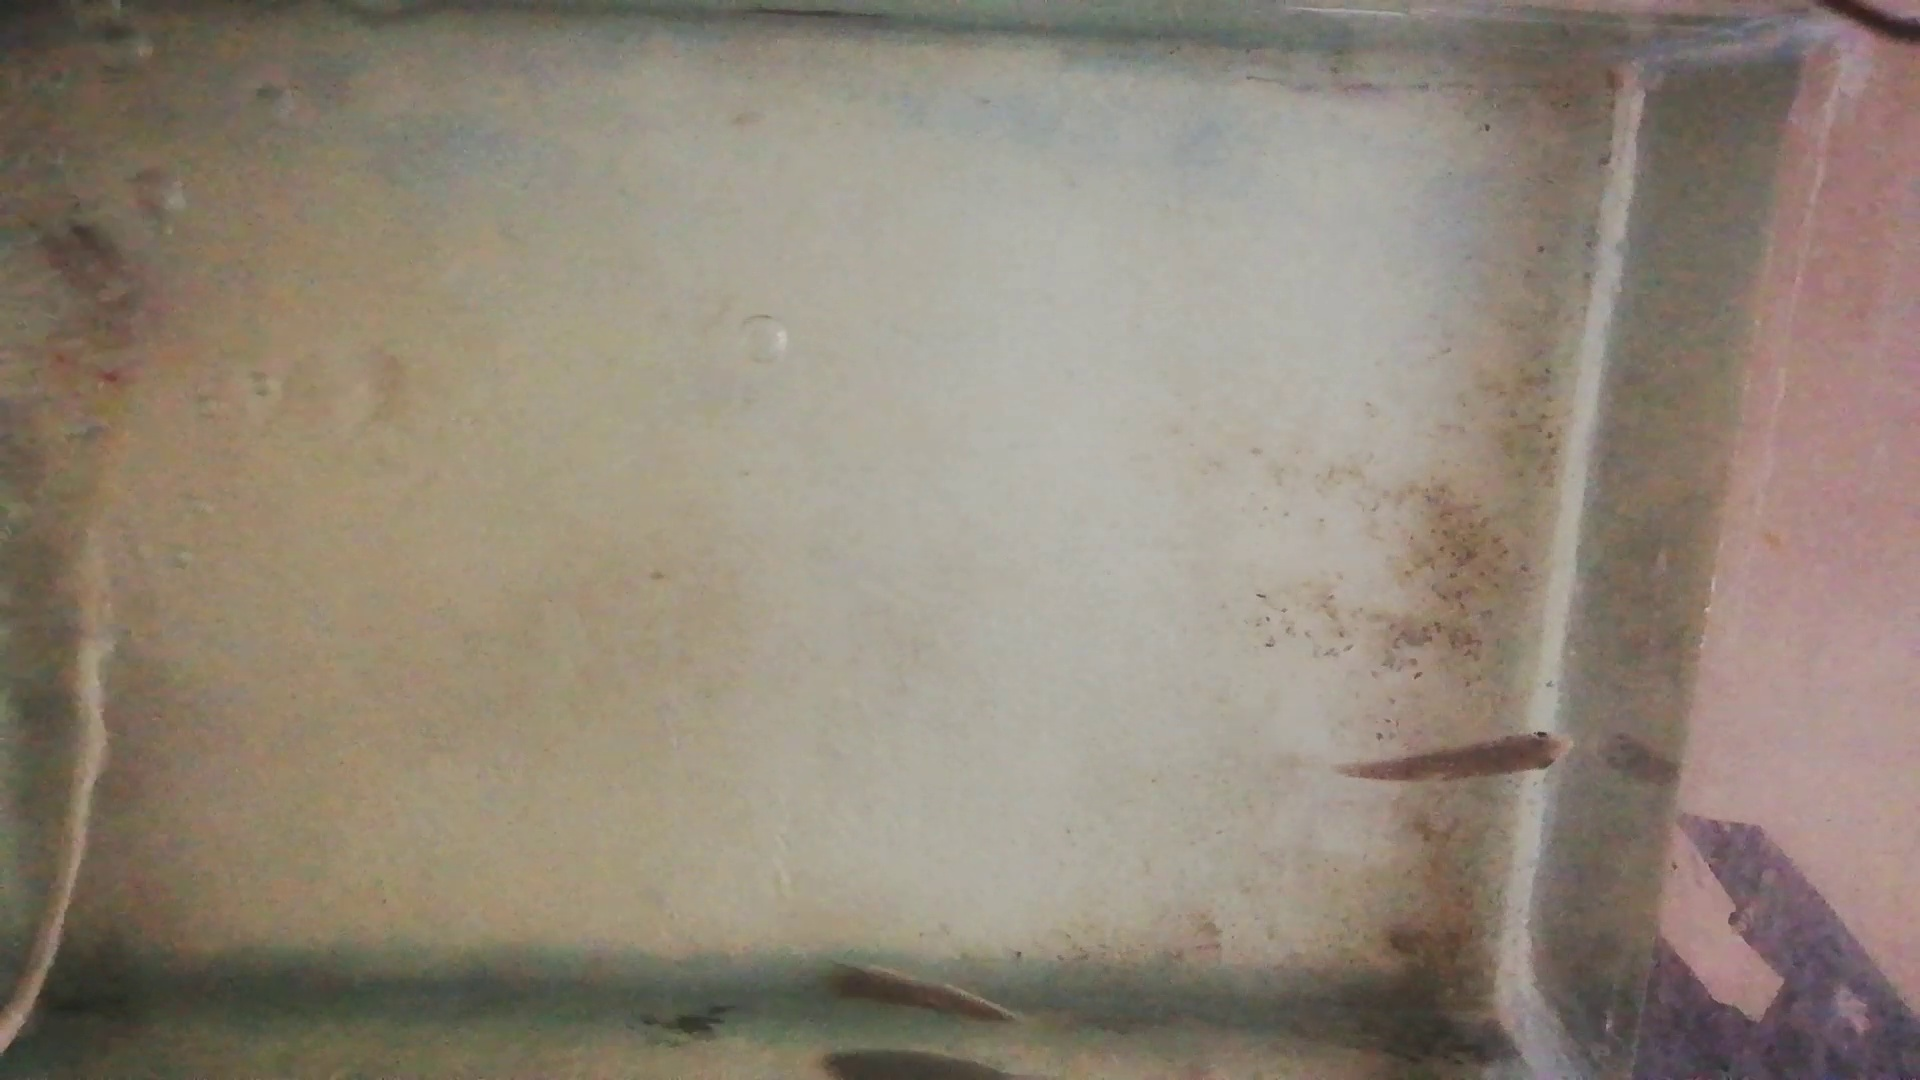fish: (1335, 732, 1571, 783), (825, 965, 1017, 1022)
